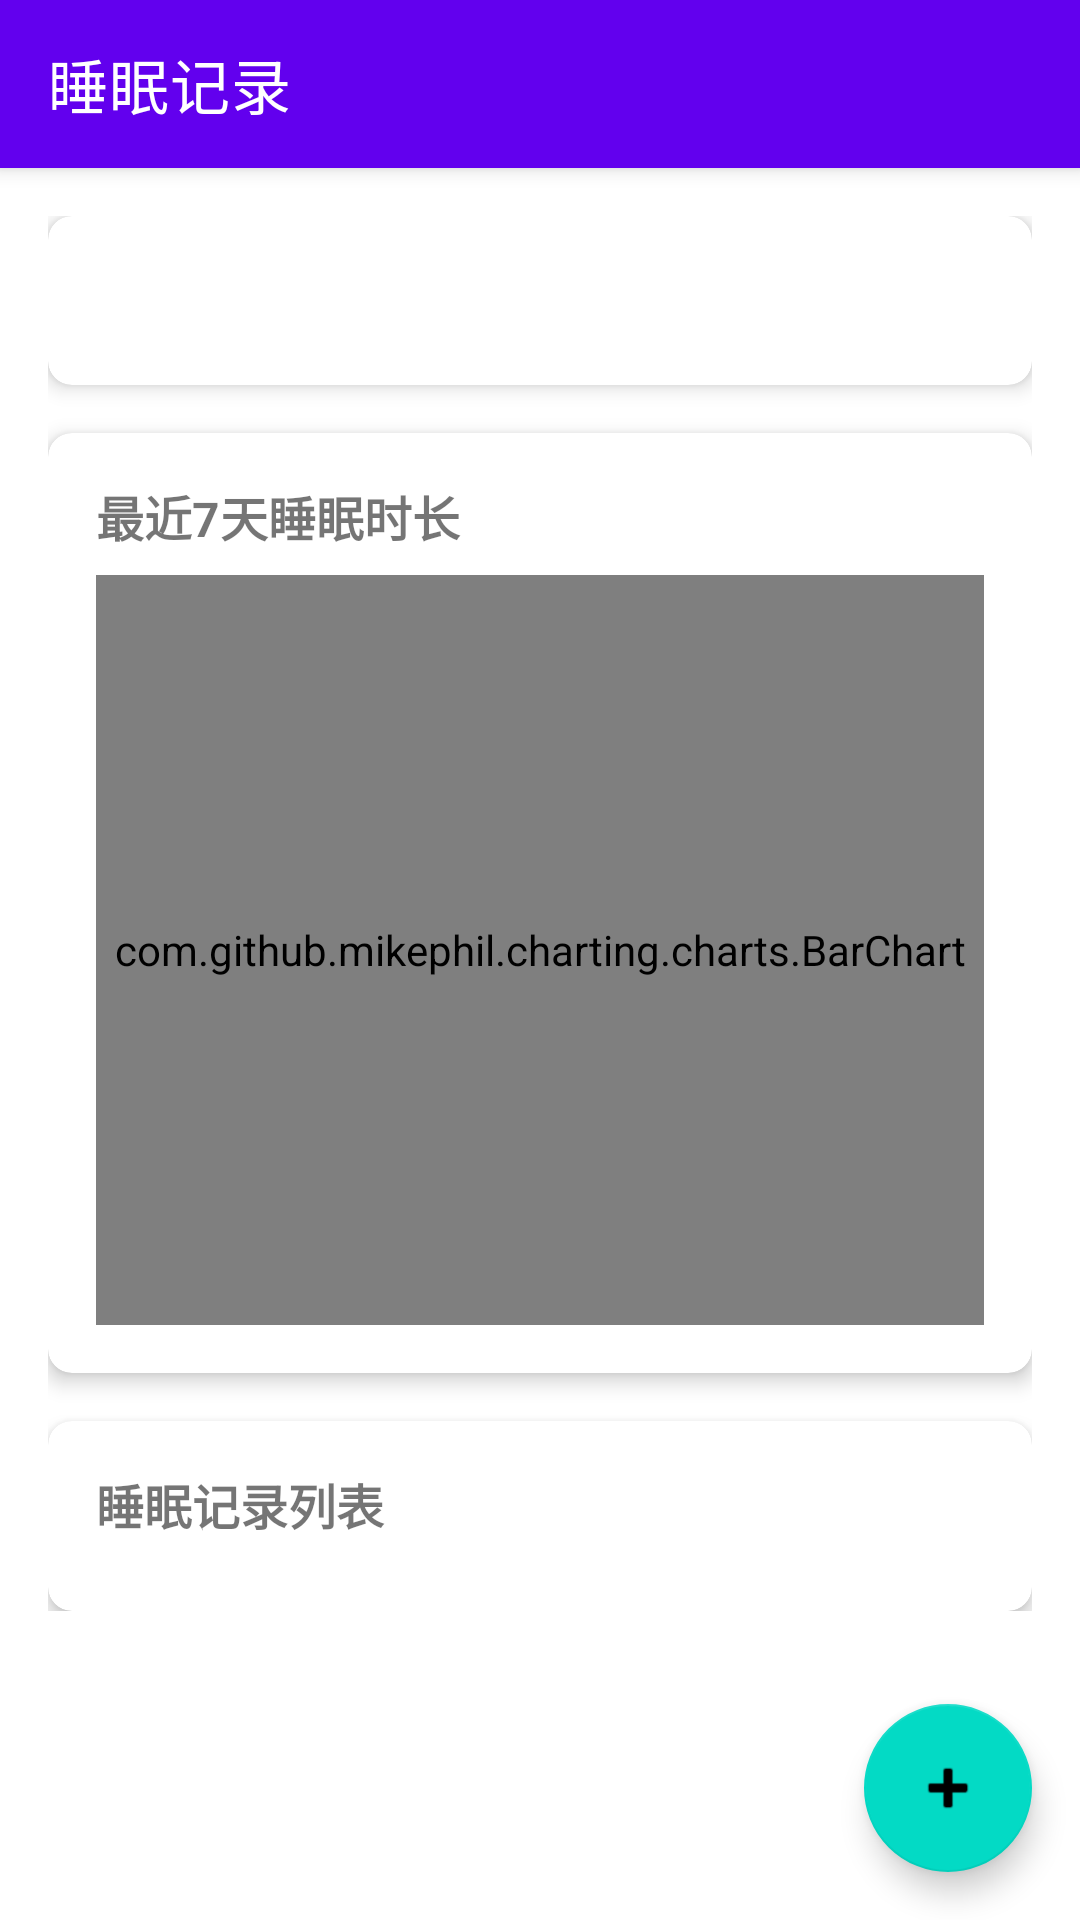

Locate icon controls on the screen. Image size 1080×1920, boxes as Rect(x1, y1, x2, y2).
添加睡眠记录: Rect(864, 1704, 1032, 1872)
